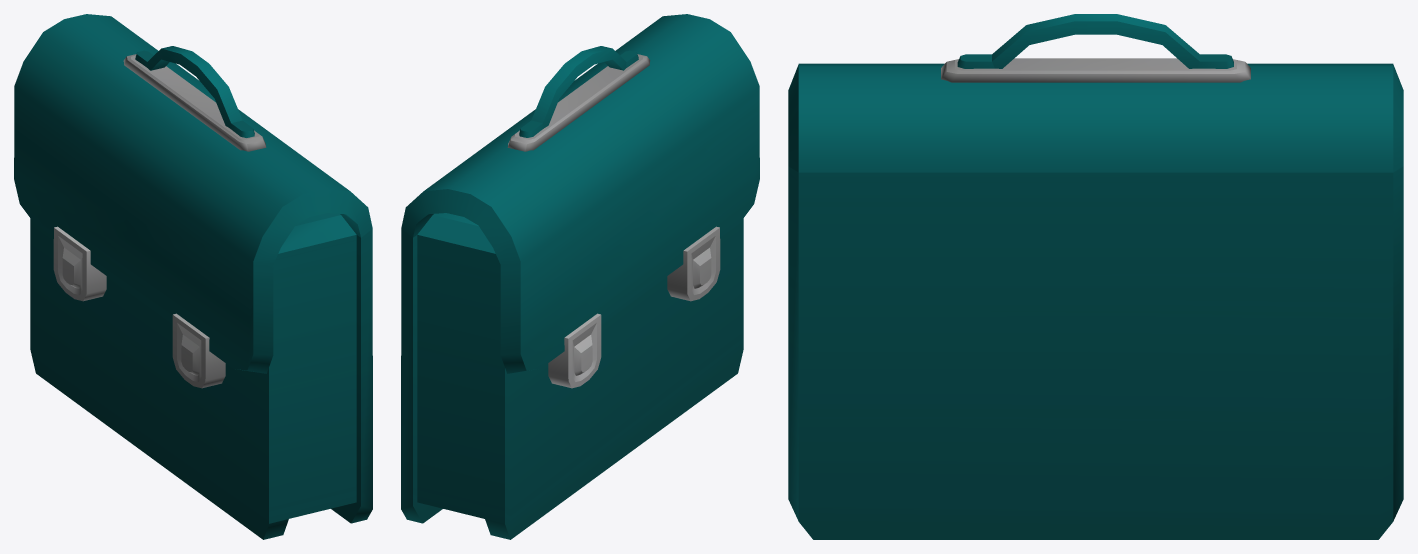
The model's file is Suitcase_1_1_L.glb.
The picture shows the model from 3 angles, left to right: view 1: azimuth 30°, elevation 25°; view 2: azimuth 150°, elevation 25°; view 3: azimuth 270°, elevation 25°; orthographic projection. The views are drawn at different scales.
Parts seen in each view (by area): view 1: Suitcase_1_1_L; view 2: Suitcase_1_1_L; view 3: Suitcase_1_1_L.
Part boxes in pixels (x1,y1,x2,y2): Suitcase_1_1_L: [14, 14, 372, 539]; Suitcase_1_1_L: [401, 14, 759, 539]; Suitcase_1_1_L: [788, 14, 1403, 539].
Bounding box in the file's own units: 0.1604 × 0.4779 × 0.5473.
2 materials, 2 textured.
